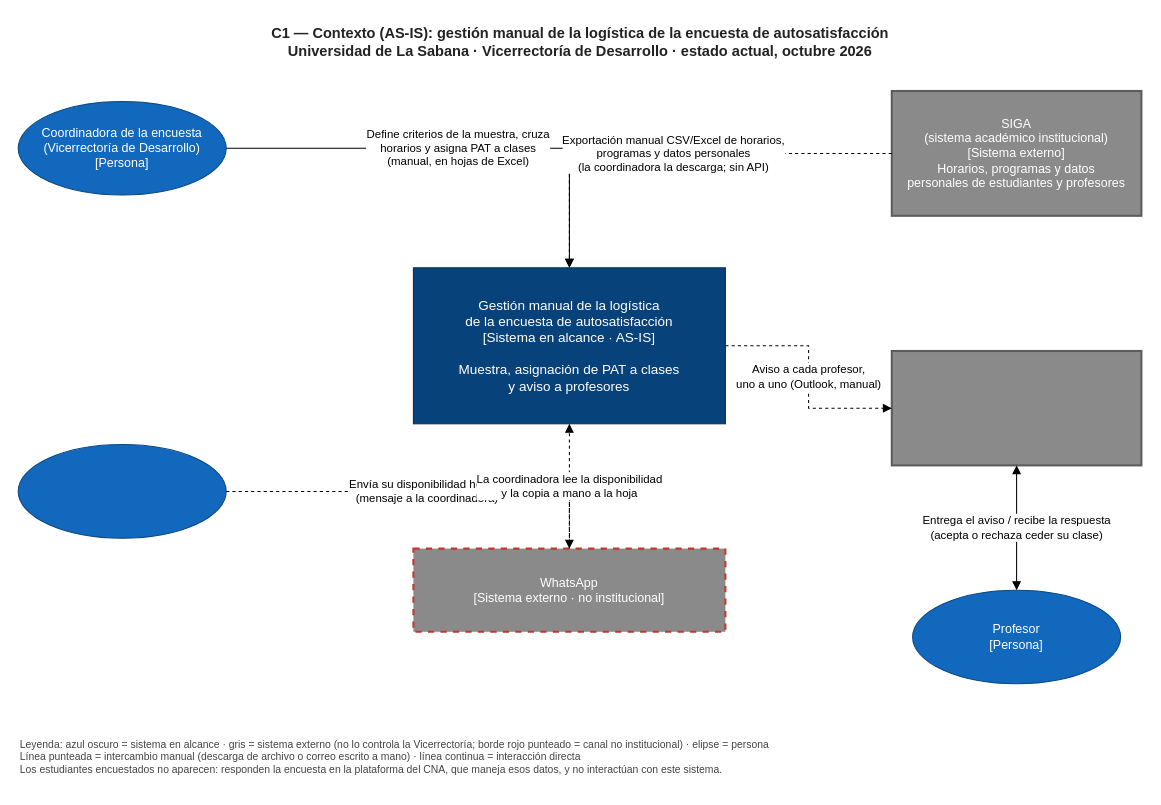
The diagram is 1161 pixels wide and 805 high, and some of its shapes have lost their labels. Here are the shapes that lost their labels. From the top down, the box of each, then its label:
(890, 349, 1142, 466): Correo institucional (Exchange Online · Microsoft 365) [Sistema externo]
(17, 444, 226, 538): Estudiante PAT [Persona] Responde la encuesta y luego la aplica en el salón
